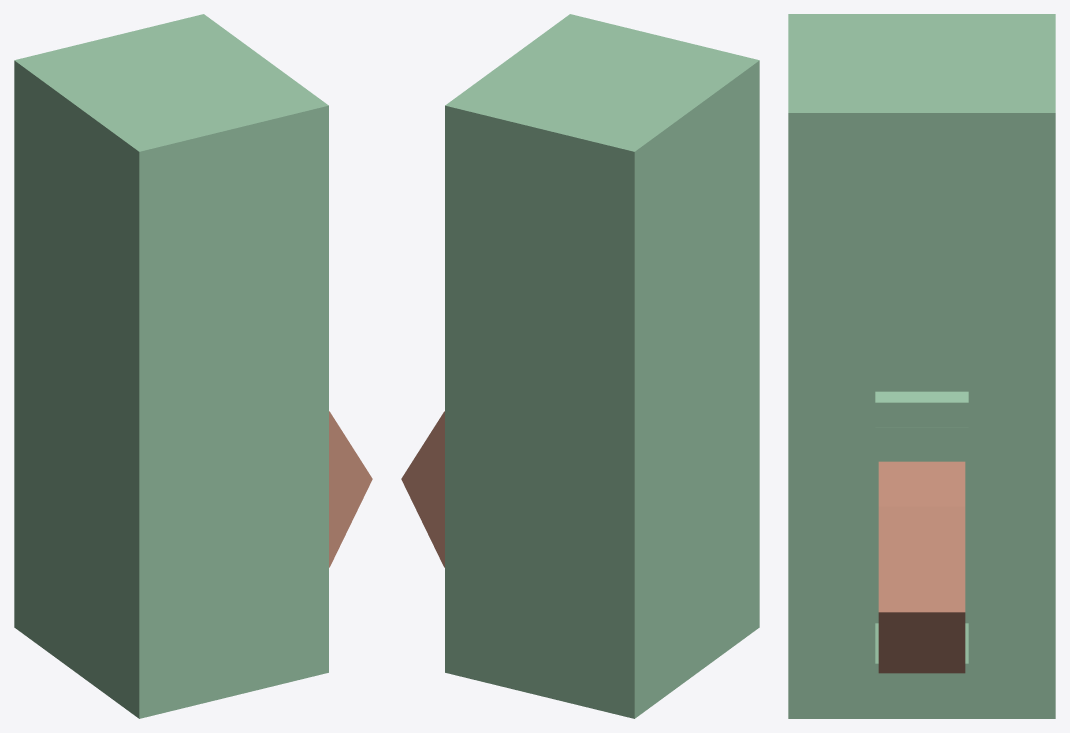
The model's file is nut_slot_demo.glb.
3 renders of one model, left to right at view 1: azimuth 30°, elevation 25°; view 2: azimuth 150°, elevation 25°; view 3: azimuth 270°, elevation 25°, orthographic. The views are drawn at different scales.
Parts seen in each view (by area): view 1: trap_cutaway, nut_standin; view 2: trap_cutaway, nut_standin; view 3: trap_cutaway, nut_standin.
Boxes of the visible parts, x1,y1,x2,y2 form: trap_cutaway: (14,14,328,718); nut_standin: (329,411,372,567); trap_cutaway: (445,14,759,718); nut_standin: (401,411,444,567); trap_cutaway: (788,14,1055,718); nut_standin: (878,461,965,673).
Size of the model in its own units: 10.18 by 20 by 8.
